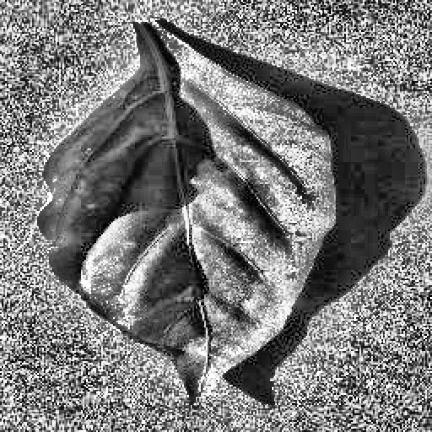leaf: (37, 20, 336, 403)
